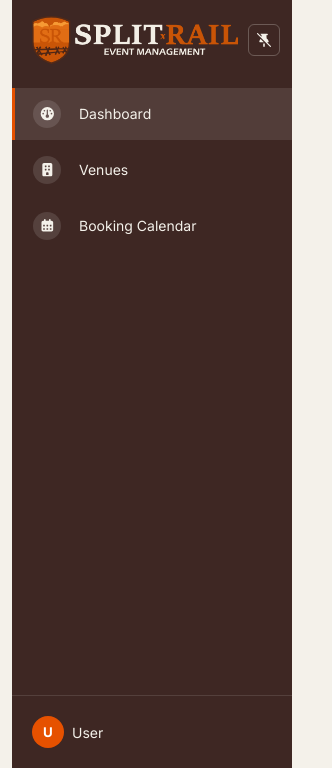
Test case: SidebarRail › shows brand mark when collapsed and nav pin only on hover overlay
The image size is (332, 768).
Click the button with test id "sidebar-nav-unpin" at (264, 40), box [248, 24, 280, 56]
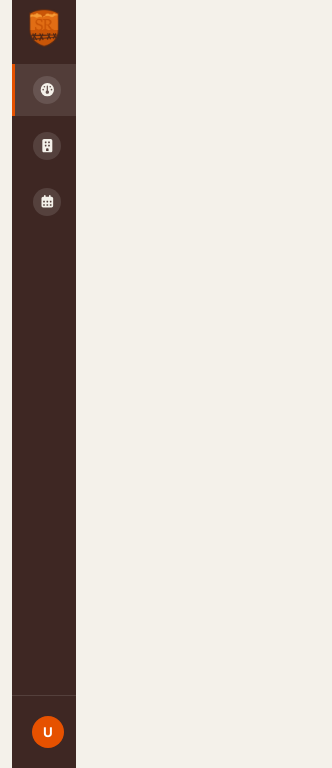
Expected: the button with test id "sidebar-brand" is shown, [28, 9, 60, 47]
Hover over the element with test id "sidebar-rail" at (44, 384), box [12, 0, 76, 767]
Wait 250 ms
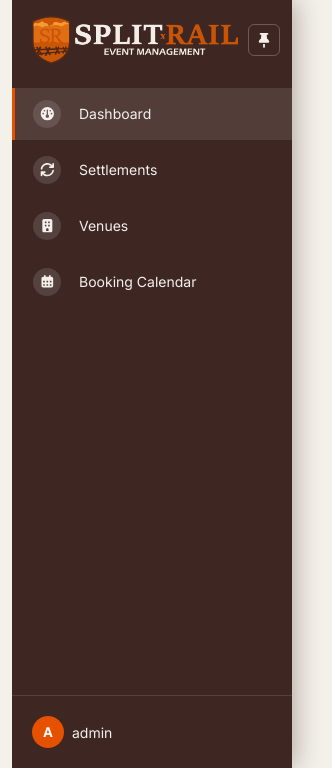
Expected: the button with test id "sidebar-brand" is shown, [24, 16, 240, 64]
Now the button with test id "sidebar-nav-pin" is shown, box [248, 24, 280, 56]
